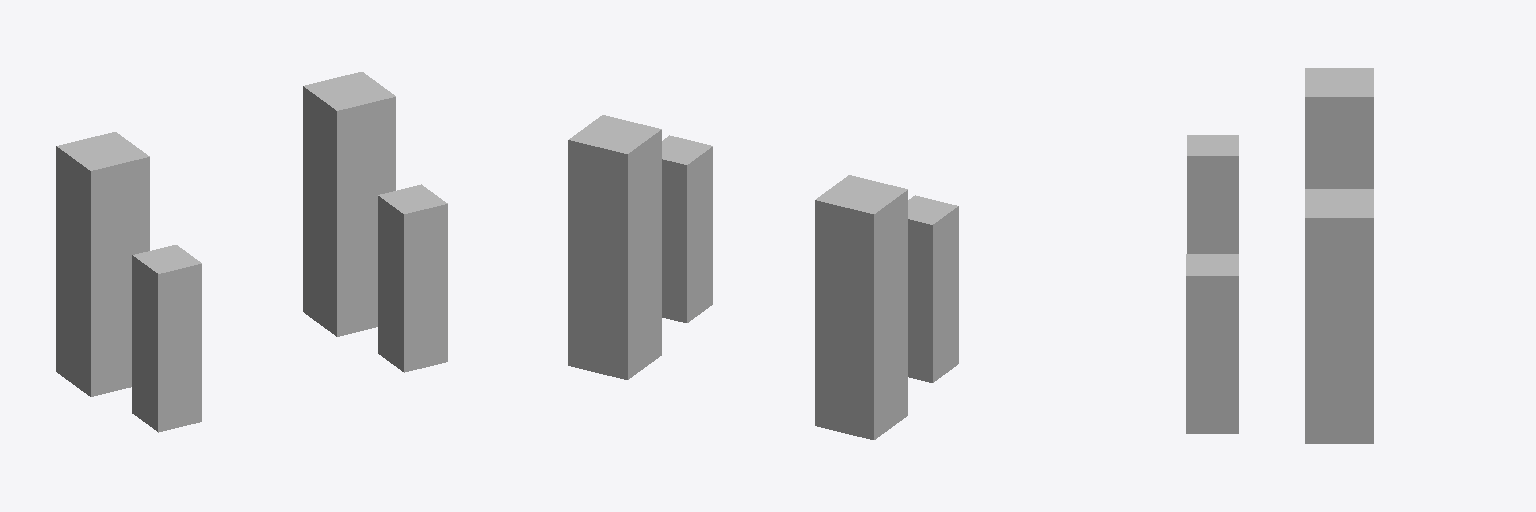
File: castle_towers_doors_bBoxes.obj
3 views of the same model, side by side, from view 1: azimuth 30°, elevation 25°; view 2: azimuth 150°, elevation 25°; view 3: azimuth 270°, elevation 25° (orthographic).
Parts seen in each view (by area): view 1: Cube.003_Cube.036, Cube.002_Cube.035, Cube.001_Cube.034, Cube_Cube.033; view 2: Cube.002_Cube.035, Cube.003_Cube.036, Cube.001_Cube.034, Cube_Cube.033; view 3: Cube.002_Cube.035, Cube.001_Cube.034, Cube.003_Cube.036, Cube_Cube.033.
Boxes of the visible parts, <box> form: Cube.003_Cube.036: <box>56,132,149,396</box>; Cube.002_Cube.035: <box>303,72,395,336</box>; Cube.001_Cube.034: <box>378,184,447,372</box>; Cube_Cube.033: <box>132,245,201,432</box>; Cube.002_Cube.035: <box>568,115,661,379</box>; Cube.003_Cube.036: <box>815,175,907,439</box>; Cube.001_Cube.034: <box>662,135,712,322</box>; Cube_Cube.033: <box>908,195,958,382</box>; Cube.002_Cube.035: <box>1305,189,1373,443</box>; Cube.001_Cube.034: <box>1186,254,1238,433</box>; Cube.003_Cube.036: <box>1305,68,1373,188</box>; Cube_Cube.033: <box>1187,135,1238,253</box>.
Bounding box in the file's own units: 43.83 × 30.96 × 23.21.